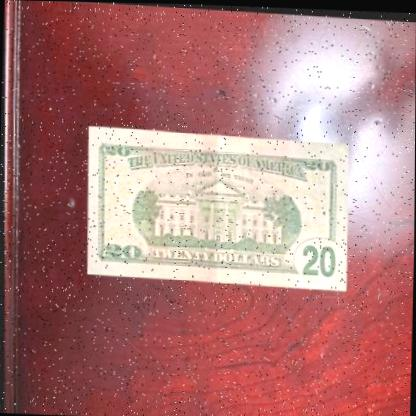twenty-back: (81, 123, 351, 290)
